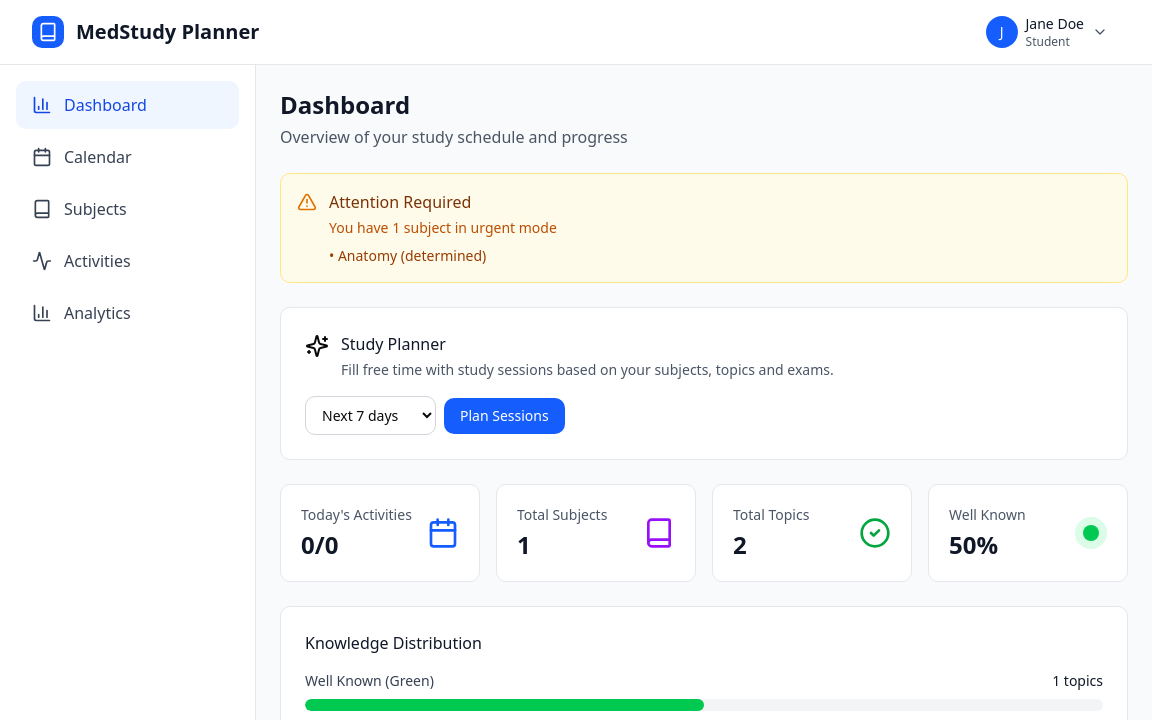
it: SubjectsView › clicking a subject expands and collapses its topics in order
Expected: the heading "Dashboard" is shown, [280,88,410,121]
Click the button "Subjects". click: coordinates (128, 209)
box: [16,185,239,233]
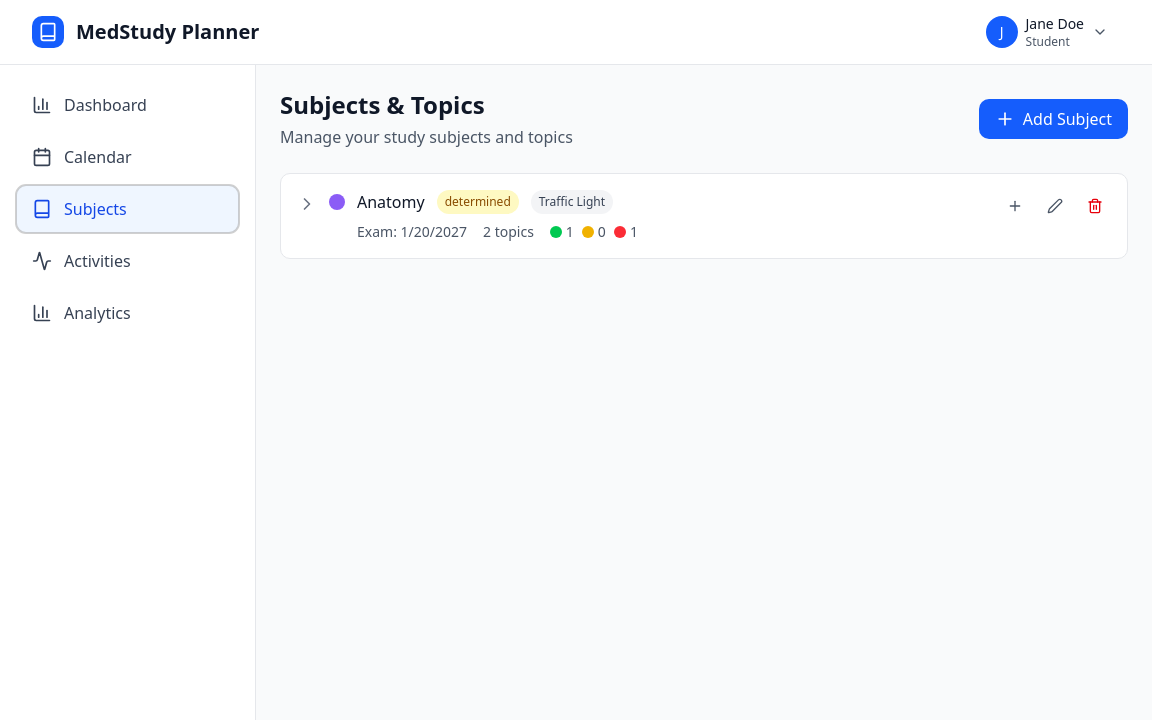
Click the heading "Anatomy". click: coordinates (391, 202)
box: [357,190,425,214]
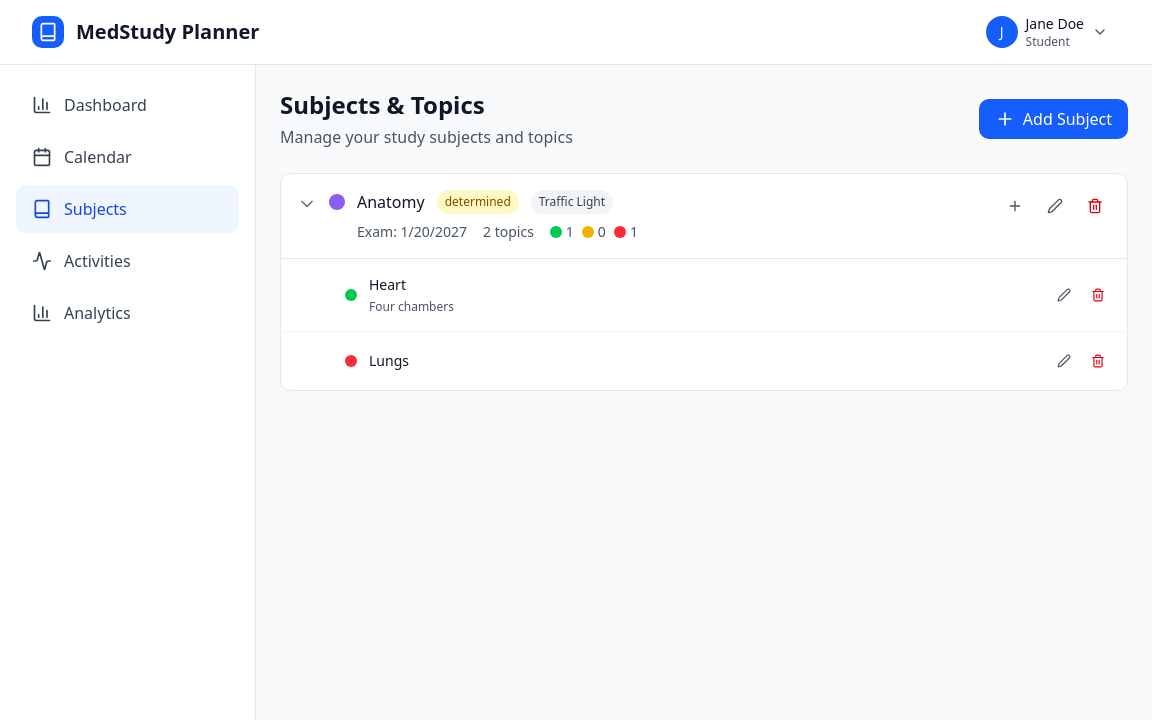
Expected: the text "Four chambers" is shown, [369,299,454,315]
Click the heading "Anatomy". click: coordinates (391, 202)
box: [357,190,425,214]
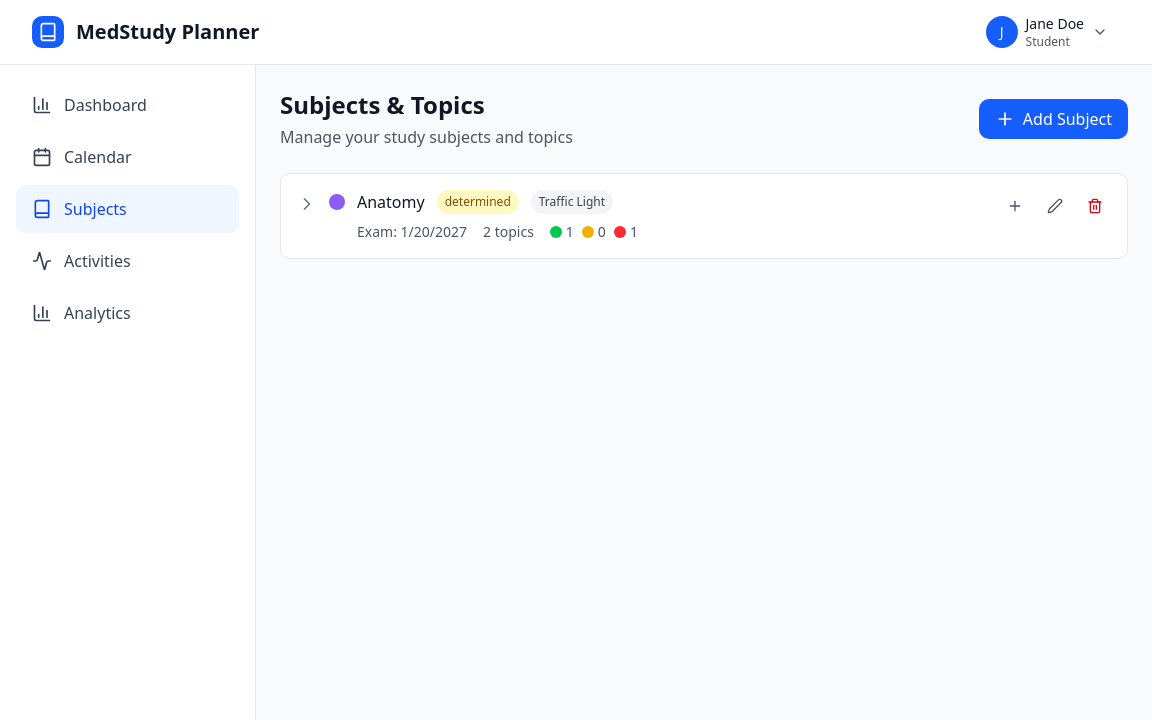
Expected: the text "Heart" is gone
